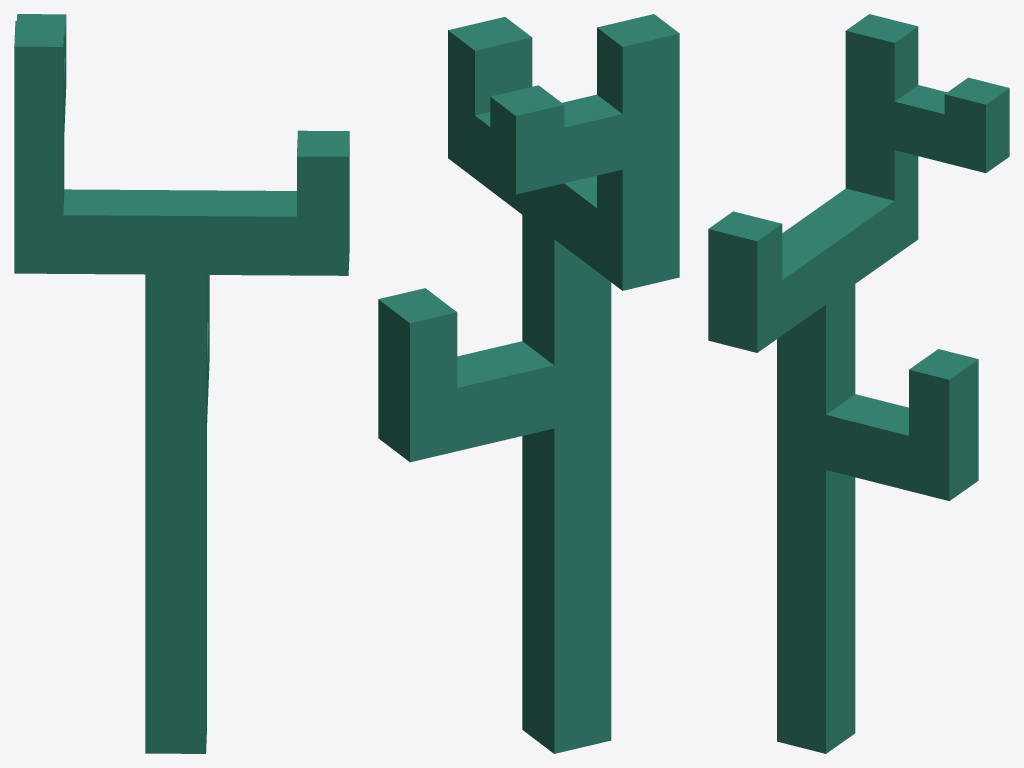
The model's file is cactus1.fbx.
3 renders of one model, left to right at view 1: azimuth 30°, elevation 25°; view 2: azimuth 150°, elevation 25°; view 3: azimuth 270°, elevation 25°, orthographic. The views are drawn at different scales.
Parts seen in each view (by area): view 1: Plane.035; view 2: Plane.035; view 3: Plane.035.
Boxes of the visible parts, bbox=[...] form: Plane.035: bbox=[14, 14, 349, 753]; Plane.035: bbox=[378, 14, 679, 753]; Plane.035: bbox=[708, 14, 1009, 753].
Bounding box in the file's own units: 317 × 776 × 320.
